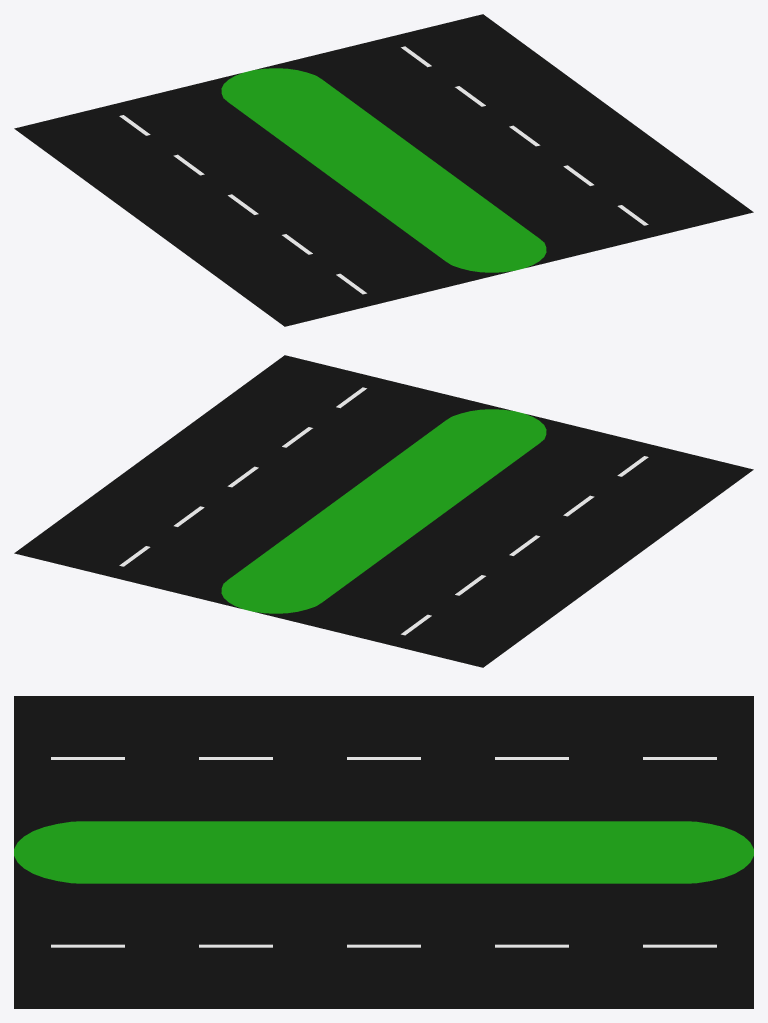
Rendered from Road_4_Lane.fbx.
3 views of the same model, one above another, from view 1: azimuth 30°, elevation 25°; view 2: azimuth 150°, elevation 25°; view 3: azimuth 270°, elevation 25° (orthographic). The views are drawn at different scales.
Parts seen in each view (by area): view 1: Road_4_Lane; view 2: Road_4_Lane; view 3: Road_4_Lane.
Part boxes in pixels (x1,y1,x2,y2): Road_4_Lane: (14, 14, 753, 326); Road_4_Lane: (14, 355, 753, 667); Road_4_Lane: (14, 696, 753, 1008).
Size of the model in its own units: 500 by 0.1001 by 500.
